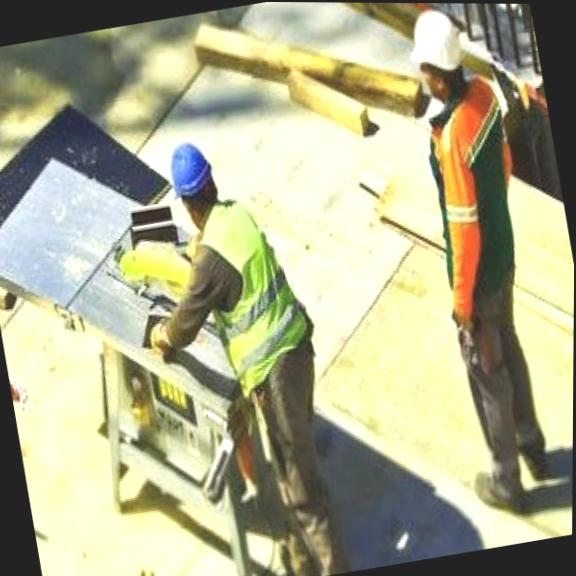safety_vest: (184, 187, 321, 369)
